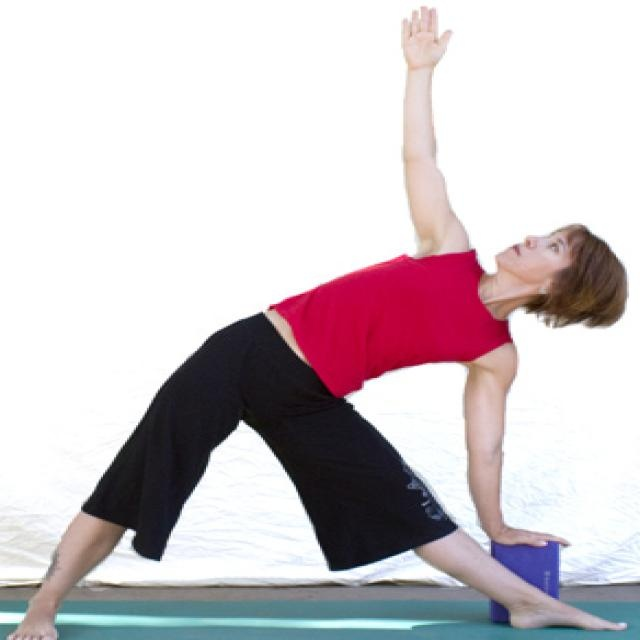Triangle_Pose: (3, 1, 634, 636)
